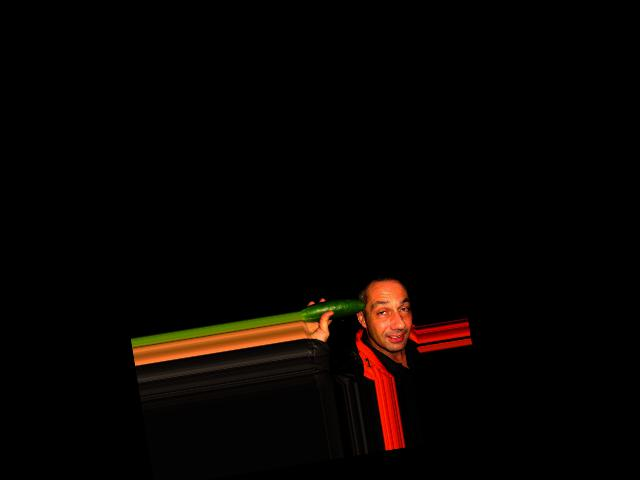cucumber: (299, 295, 367, 323)
